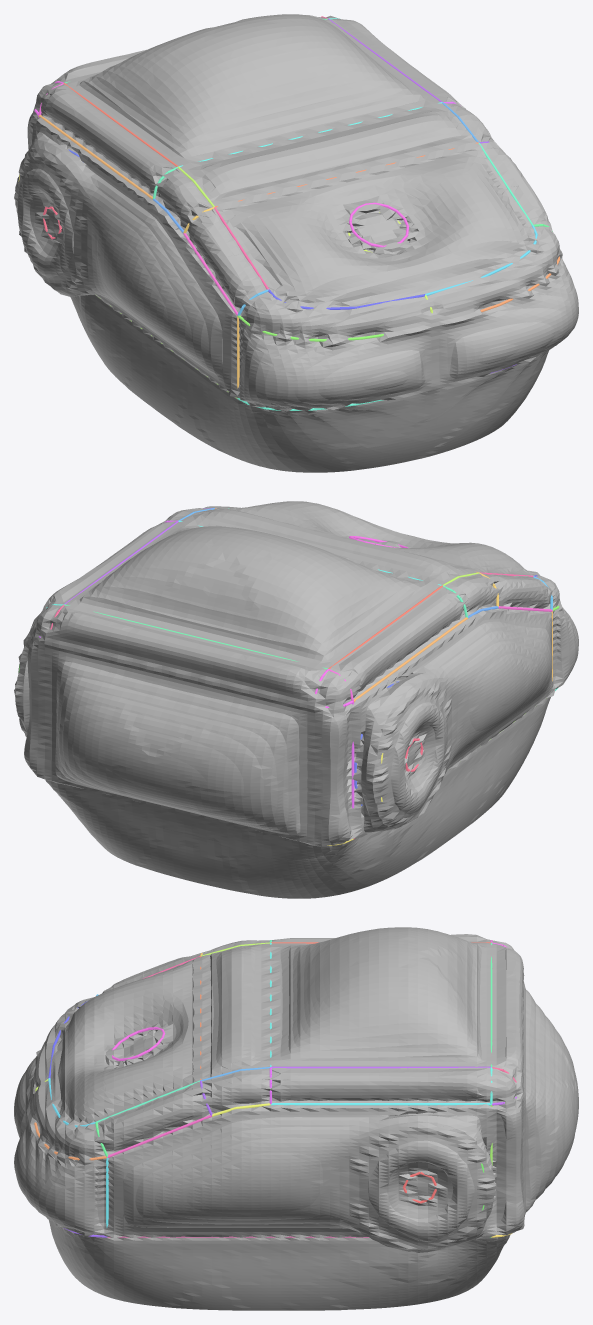
File: onshape_vacuum.gltf
3 views of the same model, one above another, from view 1: azimuth 30°, elevation 25°; view 2: azimuth 150°, elevation 25°; view 3: azimuth 270°, elevation 25° (orthographic). The views are drawn at different scales.
Size of the model in its own units: 0.6631 by 0.4911 by 0.8638.
